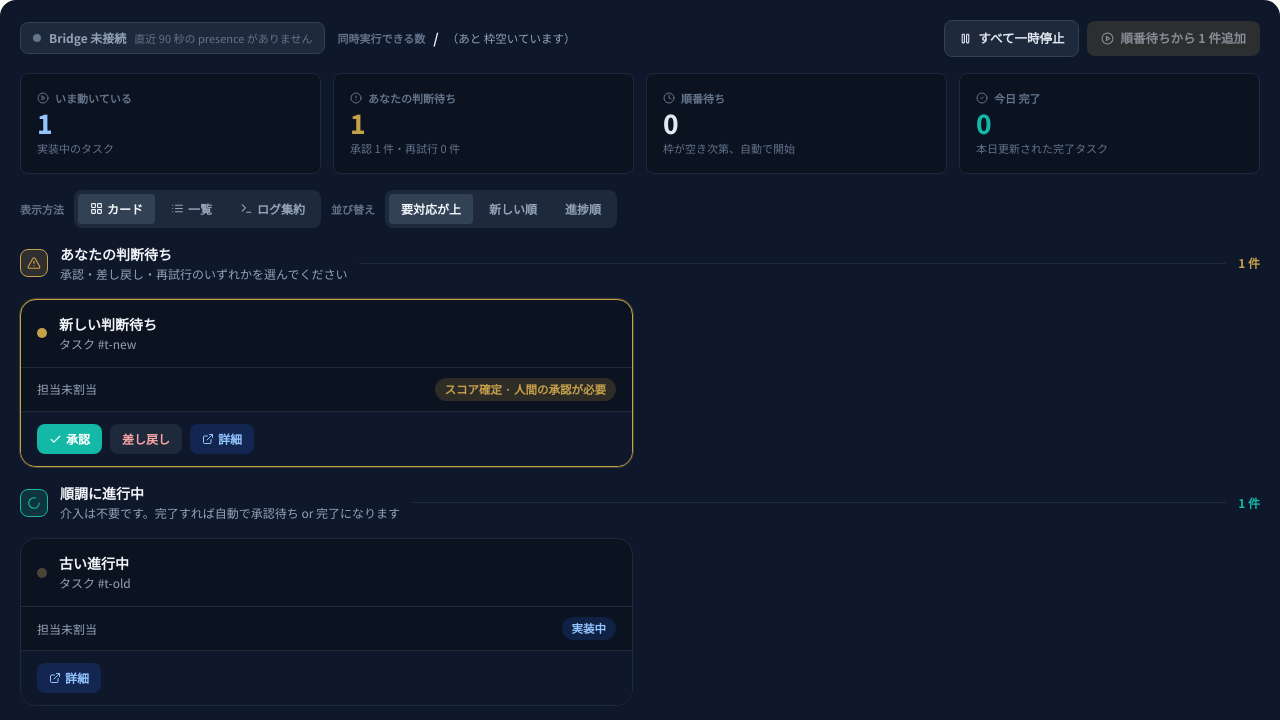
Test: S-I03 FleetMonitorContainer 並び替え (GAP-031③) › 進捗順 sorts by latest execution progress (score desc, 実データ)
This screenshot has width=1280, height=720.
Click the button "進捗順".
click(583, 209)  # box [553,194,613,224]
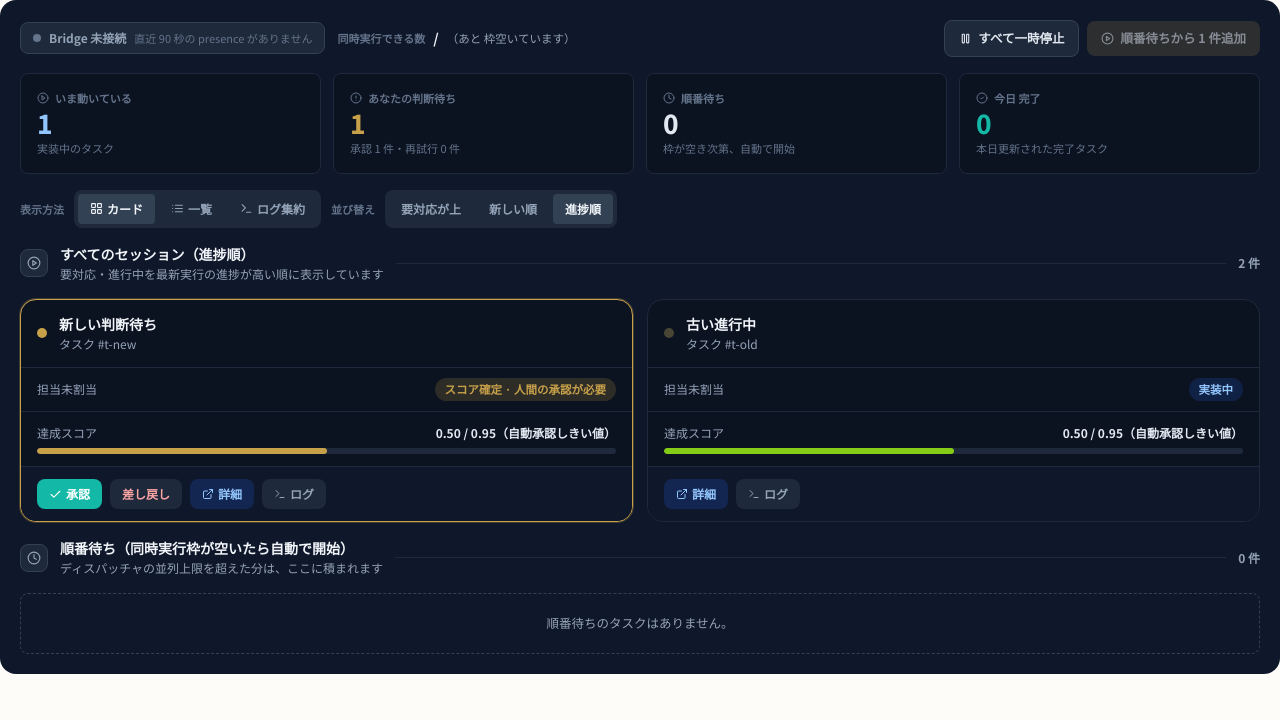
Expected: the text "すべてのセッション（進捗順）" is shown, [60,244,254,264]
